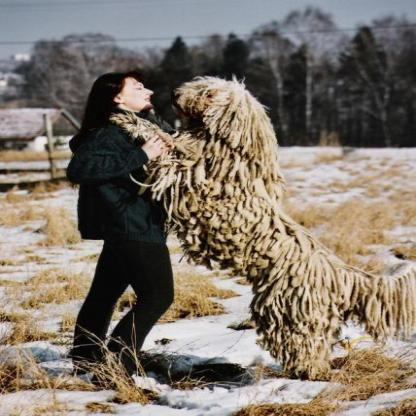komondor: (107, 73, 413, 380)
